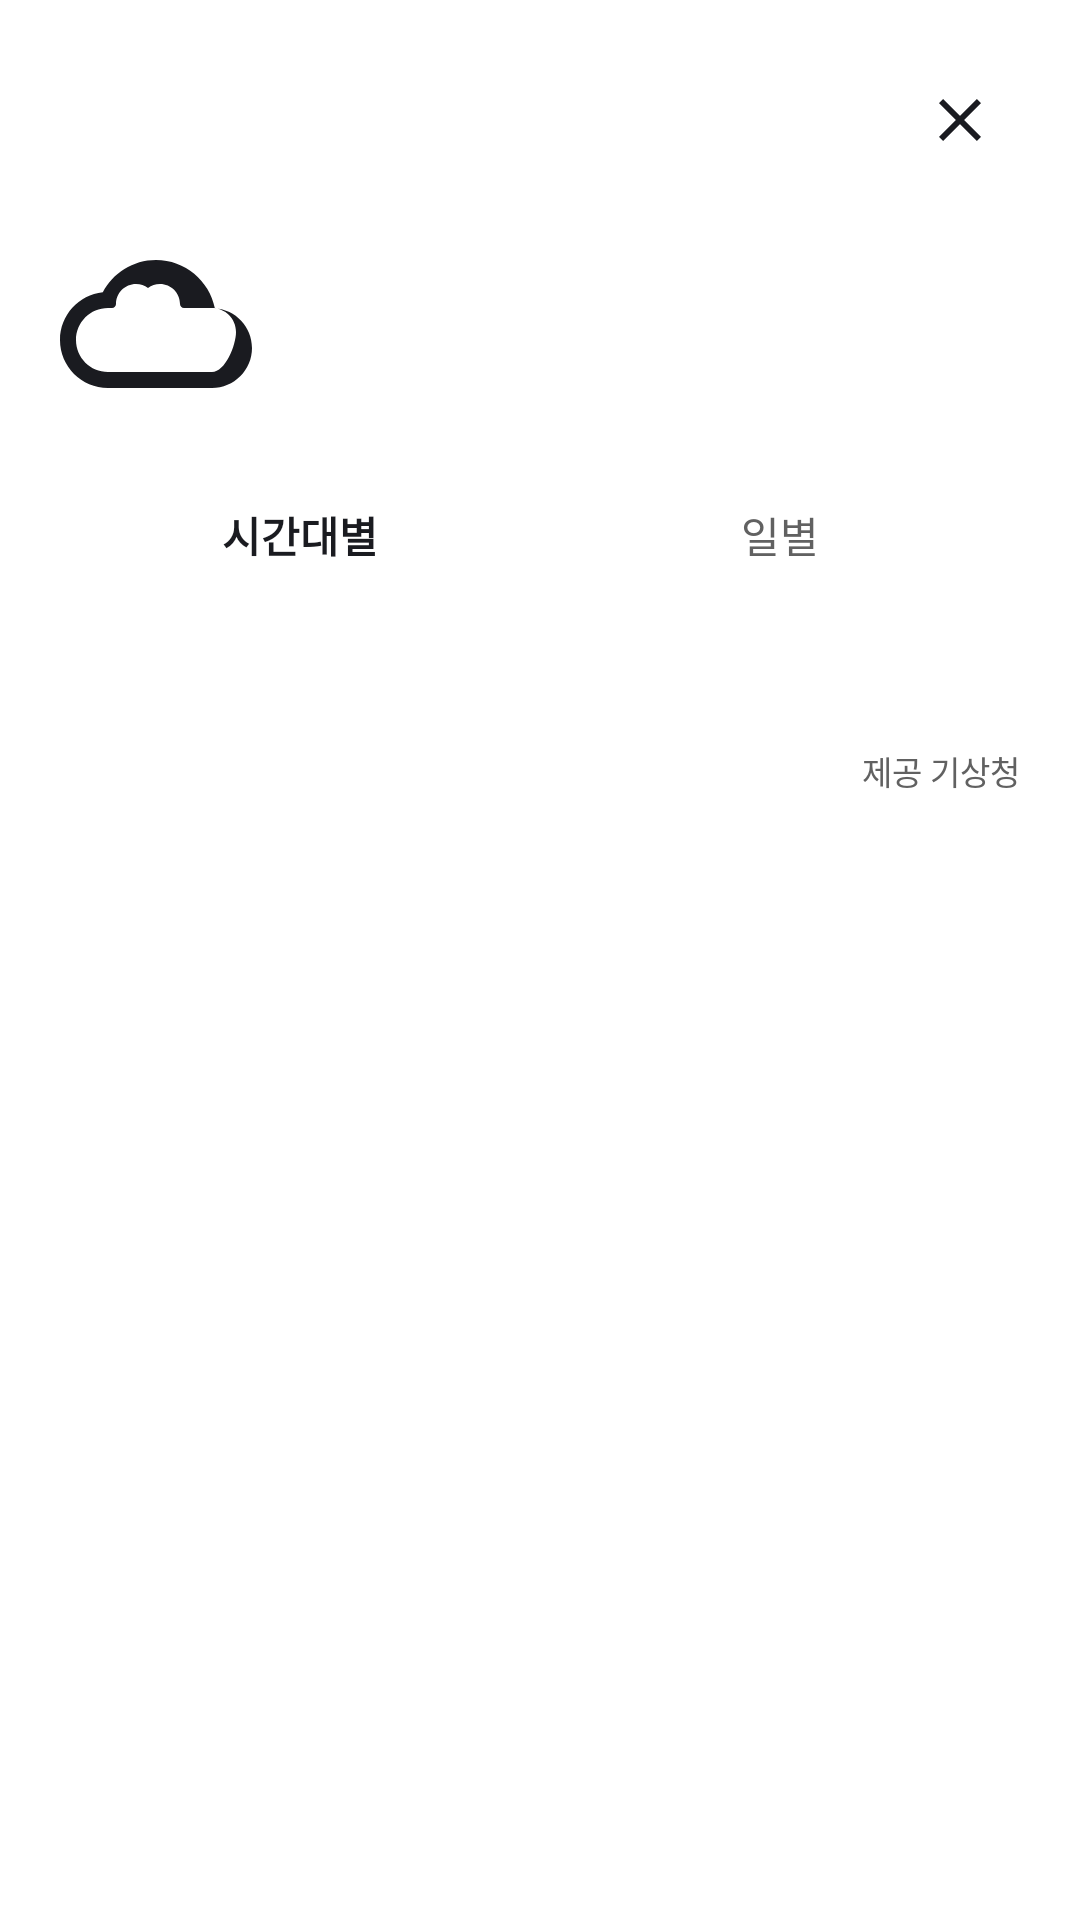

Icons on this 1080 x 1920 Android screen, each with the point to tap as [x,y]:
Cancel: [960,120]
날씨 아이콘: [156,324]
